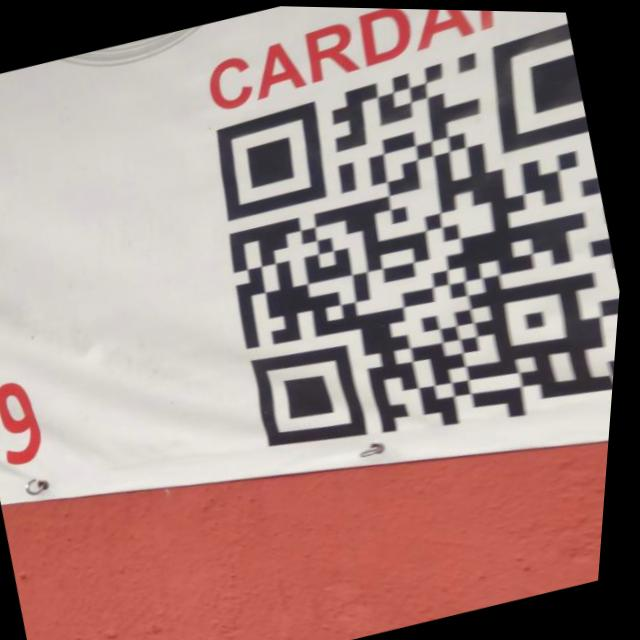qrcode: (180, 16, 640, 494)
